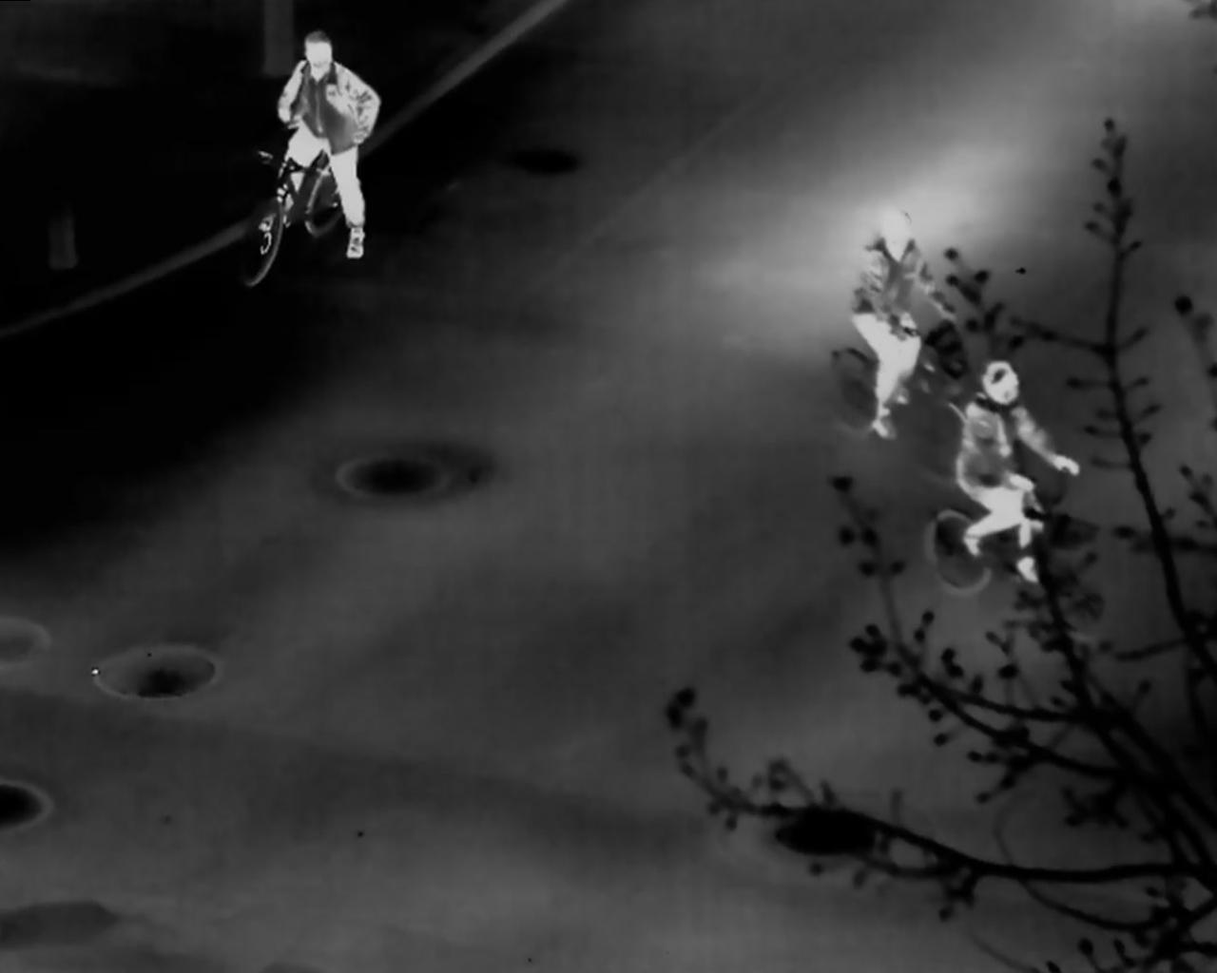person: (253, 29, 382, 260), (952, 358, 1081, 589), (845, 207, 959, 445)
